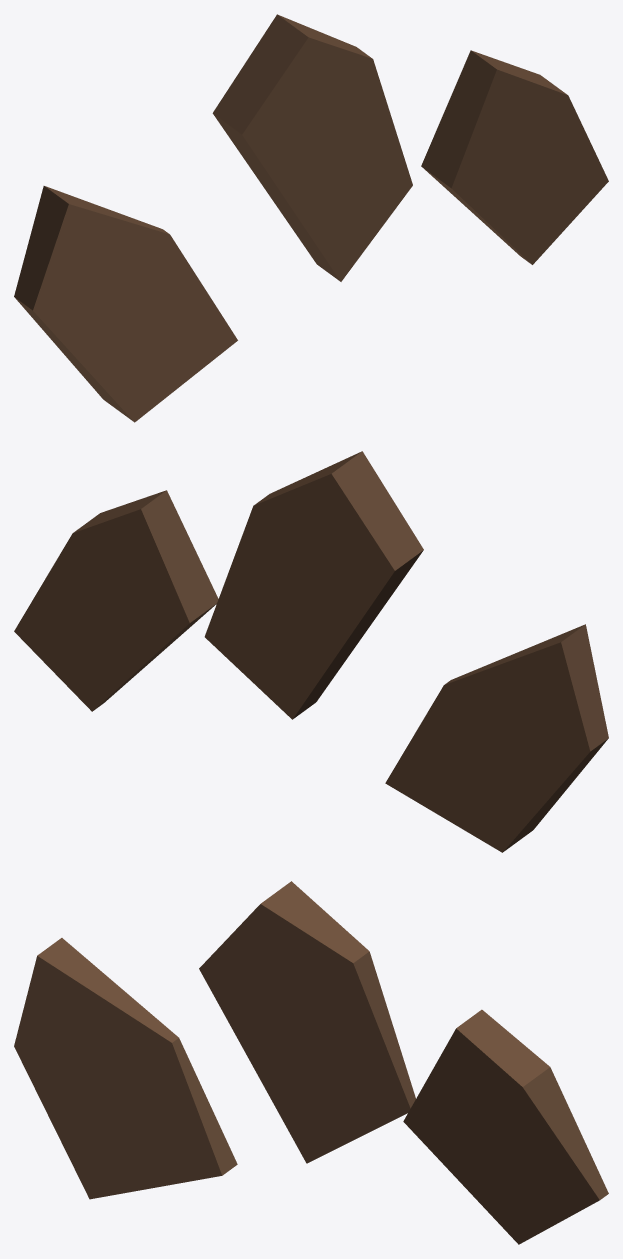
File: rootfall-seam.glb
The picture shows the model from 3 angles, top to bottom: view 1: azimuth 30°, elevation 25°; view 2: azimuth 150°, elevation 25°; view 3: azimuth 330°, elevation 25°; orthographic projection.
Visible parts, largest first — view 1: RootfallBark_chunk_1, RootfallBark_chunk_0, RootfallBark_chunk_2; view 2: RootfallBark_chunk_1, RootfallBark_chunk_0, RootfallBark_chunk_2; view 3: RootfallBark_chunk_1, RootfallBark_chunk_0, RootfallBark_chunk_2.
Boxes of the visible parts, <box> form: RootfallBark_chunk_1: <box>212,14,412,281</box>; RootfallBark_chunk_0: <box>14,186,237,422</box>; RootfallBark_chunk_2: <box>421,50,608,264</box>; RootfallBark_chunk_1: <box>204,451,423,719</box>; RootfallBark_chunk_0: <box>385,624,608,852</box>; RootfallBark_chunk_2: <box>14,490,218,711</box>; RootfallBark_chunk_1: <box>199,881,415,1163</box>; RootfallBark_chunk_0: <box>14,938,237,1199</box>; RootfallBark_chunk_2: <box>403,1009,608,1244</box>.
Bounding box in the file's own units: 0.59 × 0.33 × 0.055.
Materials: 1 (1 with a texture image).
